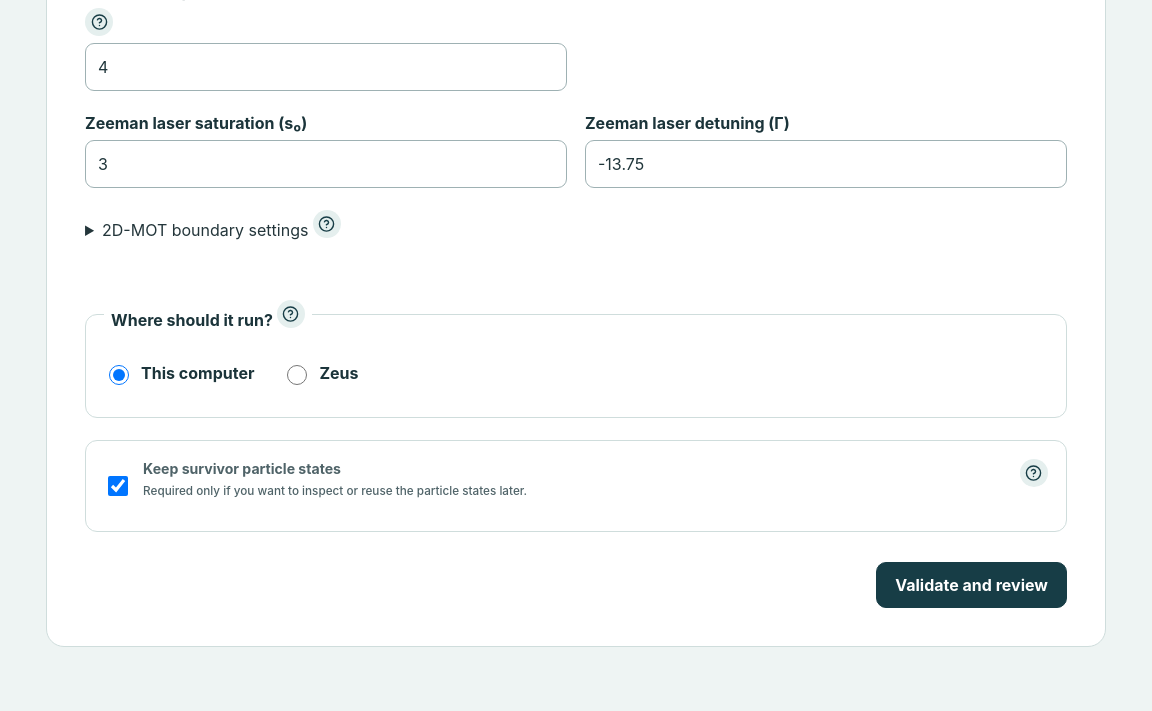
Test case: individual Zeeman wizard › keeps the default usable on a four-core Windows VM
(page scrolled)
Expected: the number field labelled "CPU worker processes" holds "4", [85,43,567,91]
Click the button "Validate and review" at (972, 585), box [876,562,1067,608]
(page scrolled)
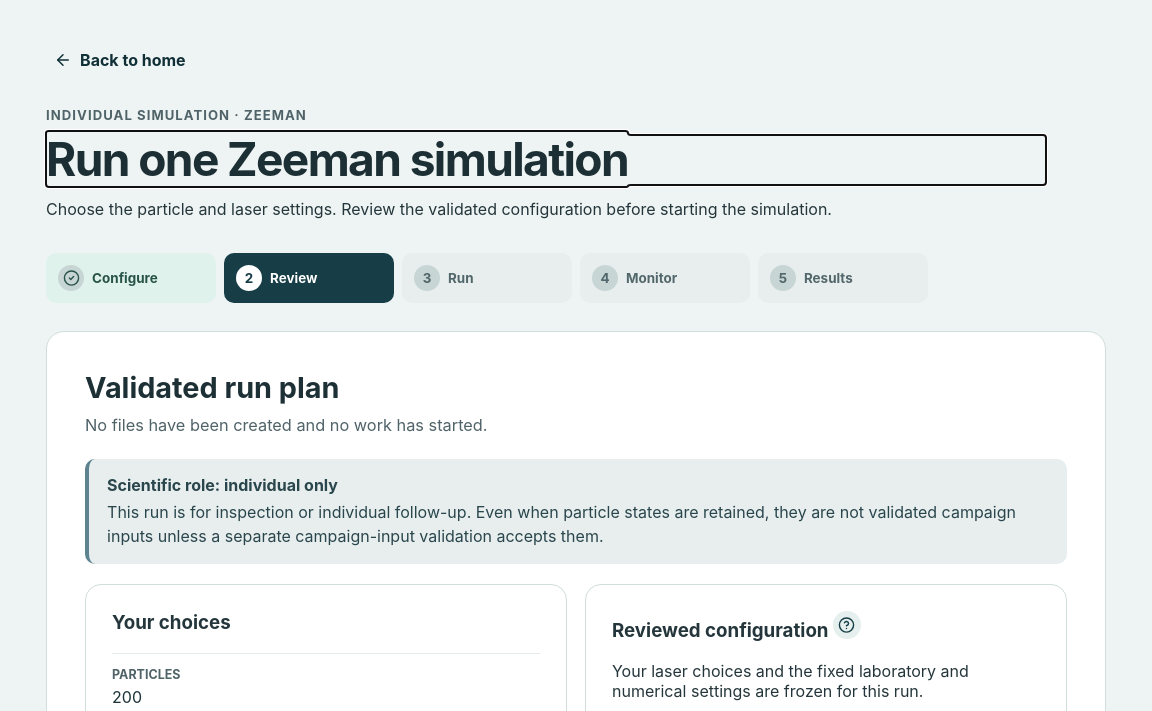
Expected: the heading "Validated run plan" is shown, [85,370,340,405]
